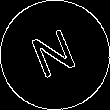N_S: (27, 24, 83, 86)
